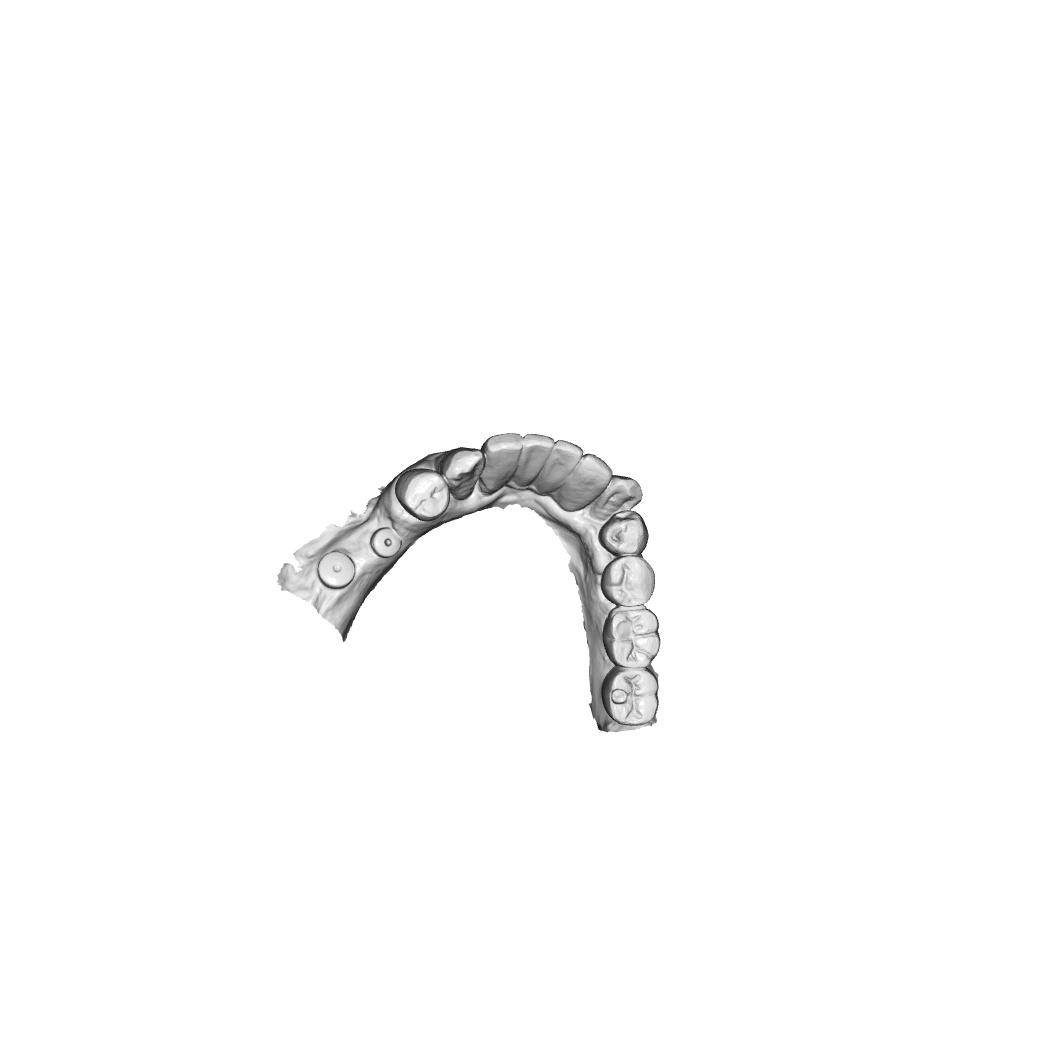canine: (434, 447, 486, 501), (591, 473, 645, 524)
implant: (316, 550, 356, 591), (370, 526, 403, 558)
incisor: (479, 431, 524, 498), (511, 432, 555, 489), (566, 452, 614, 504), (542, 438, 584, 486)
molar: (599, 606, 663, 668), (600, 667, 660, 726)
premolar: (394, 468, 451, 523), (599, 555, 657, 607), (597, 510, 650, 556)
